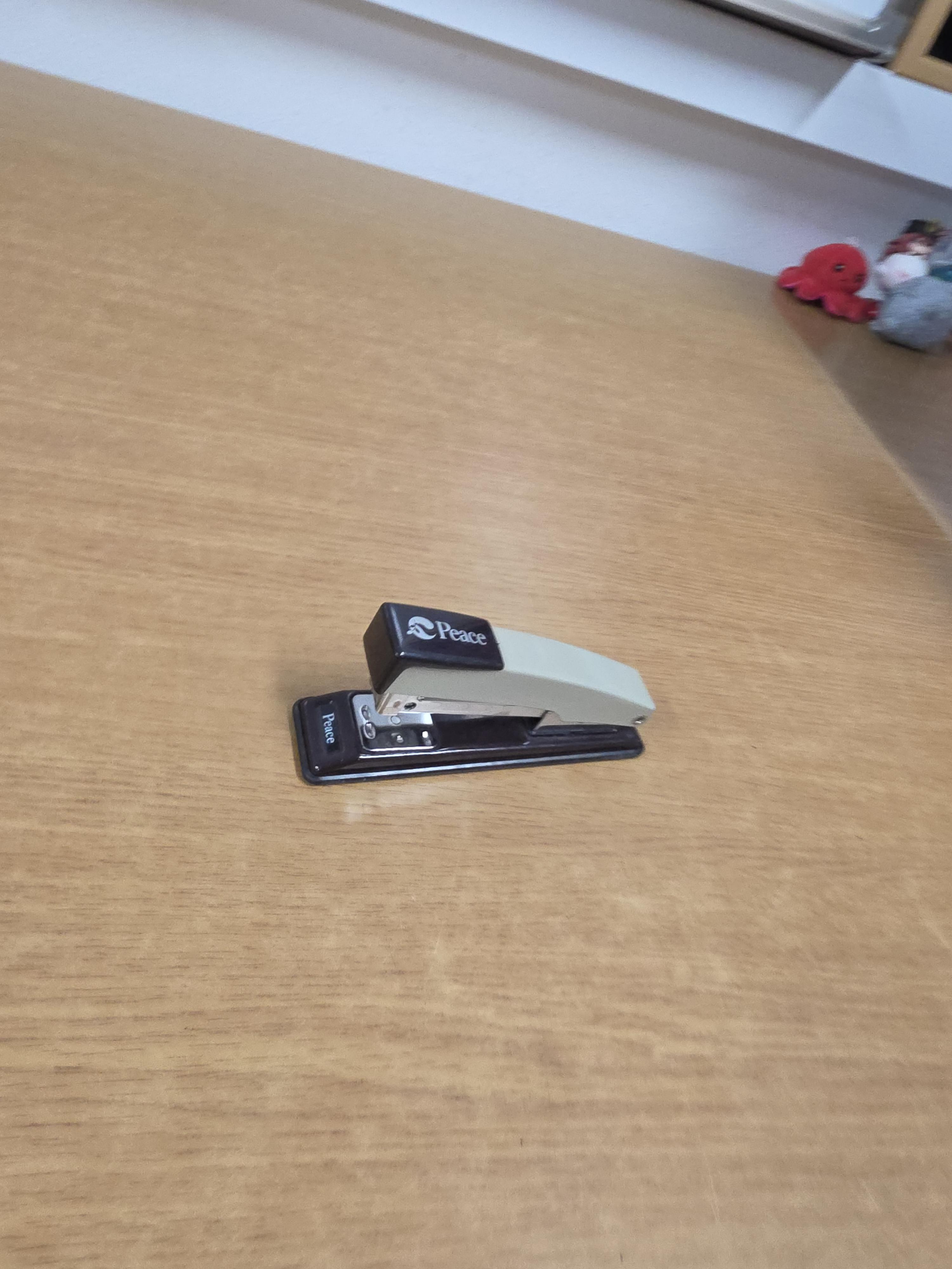stapler: (282, 600, 656, 787)
